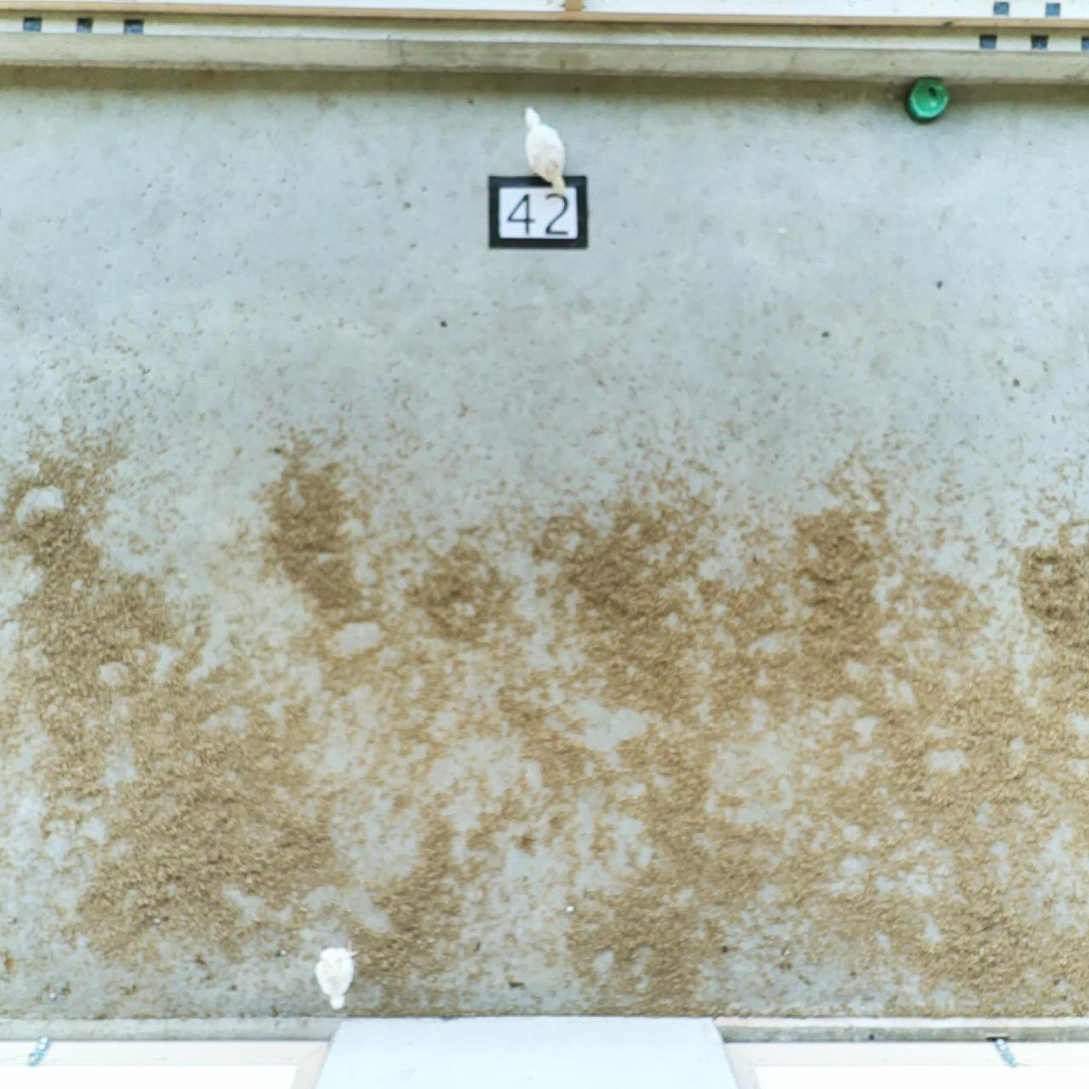chicken: (522, 105, 571, 198), (314, 937, 361, 1011)
